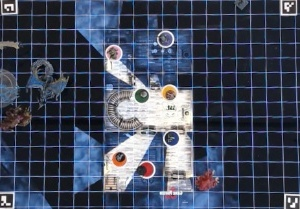blue: (163, 129, 182, 148)
green: (131, 87, 151, 104)
orange: (111, 150, 127, 168)
pink: (105, 41, 124, 62)
red: (138, 159, 157, 179)
violet: (156, 29, 176, 49)
yellow: (162, 82, 180, 101)
